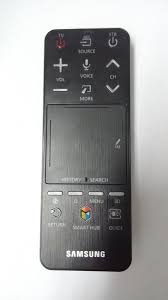remote control: (43, 30, 131, 267)
